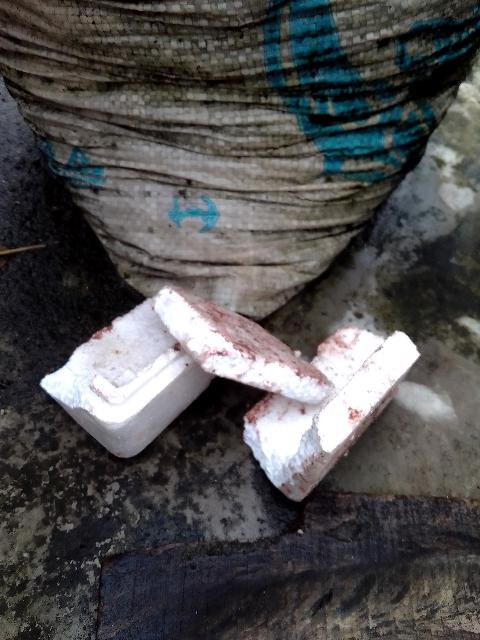cocksheet: (35, 255, 328, 465), (237, 306, 430, 494)
